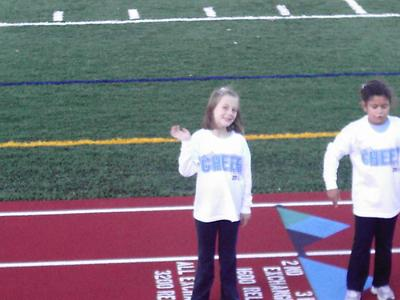person: (170, 87, 254, 300)
